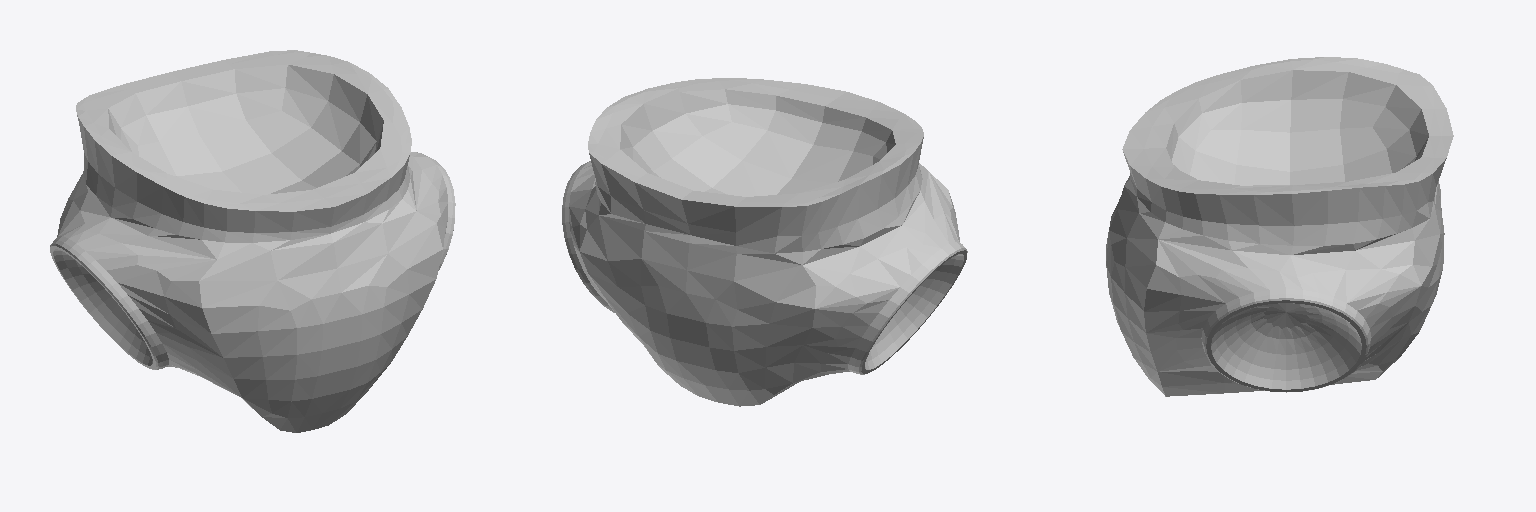
File: pelvis_2_s.obj
The picture shows the model from 3 angles: view 1: azimuth 30°, elevation 25°; view 2: azimuth 150°, elevation 25°; view 3: azimuth 270°, elevation 25°; orthographic projection.
Parts seen in each view (by area): view 1: 4; view 2: 4; view 3: 4.
Part boxes in pixels (bbox=[...]): 4: bbox=[50, 50, 455, 432]; 4: bbox=[562, 78, 967, 406]; 4: bbox=[1106, 57, 1453, 396].
Bounding box in the file's own units: 0.1957 × 0.1347 × 0.1597.